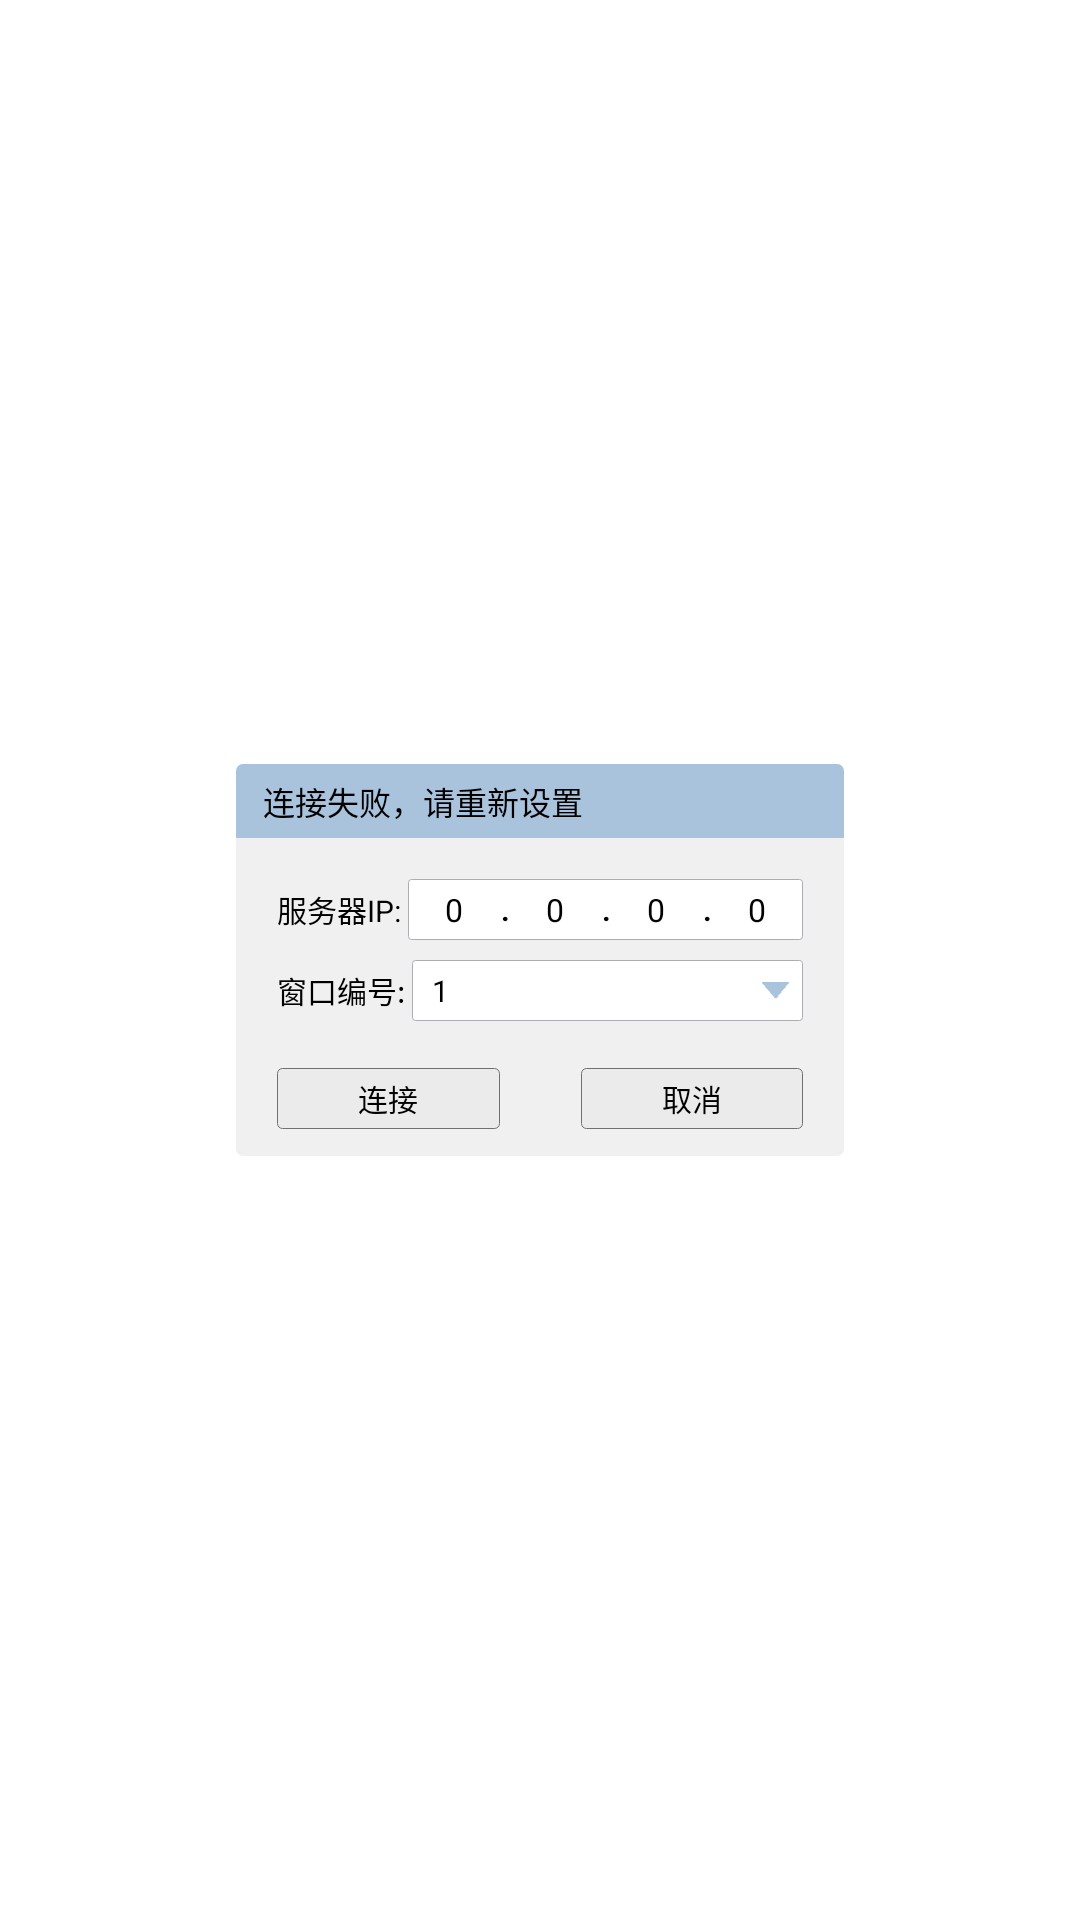

Where to tap for icons on this 1080x1920 app screen, as [x,y]:
arrow down: [775,990]
